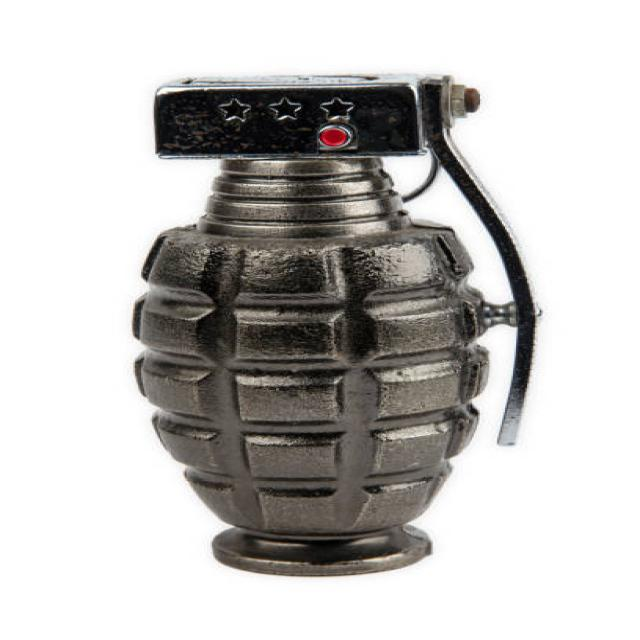grenade: (110, 52, 552, 592)
